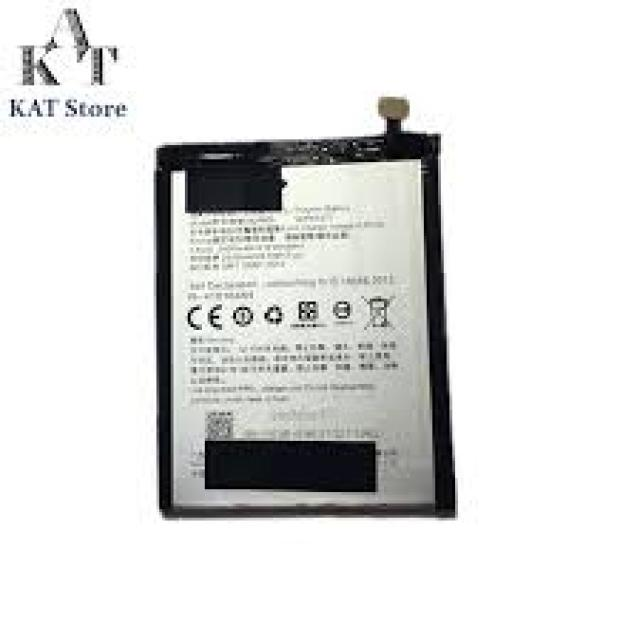non-organic waste: (156, 89, 463, 518)
